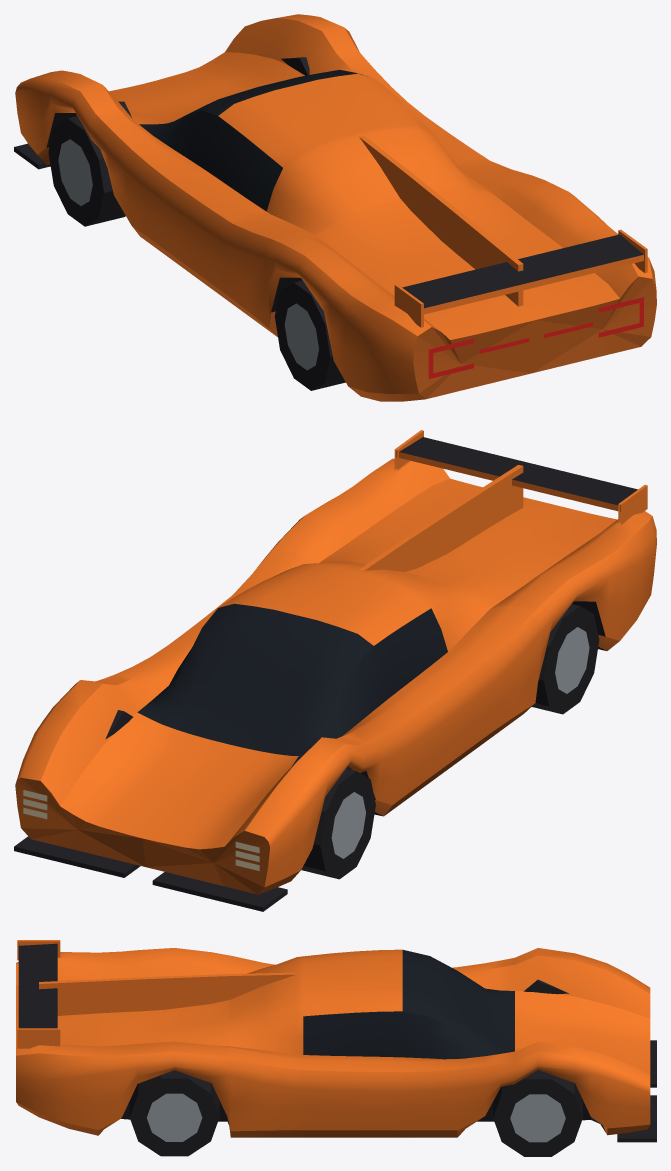
The model's file is afterglow_lod1.glb.
3 renders of one model, top to bottom at view 1: azimuth 30°, elevation 25°; view 2: azimuth 150°, elevation 25°; view 3: azimuth 270°, elevation 25°, orthographic. The views are drawn at different scales.
Parts seen in each view (by area): view 1: Body; view 2: Body; view 3: Body.
Boxes of the visible parts, box(x1,y1,x2,y2) form: Body: box(14, 14, 656, 401); Body: box(14, 430, 656, 911); Body: box(16, 940, 656, 1156).
Size of the model in its own units: 1.98 by 1.1 by 4.87.
